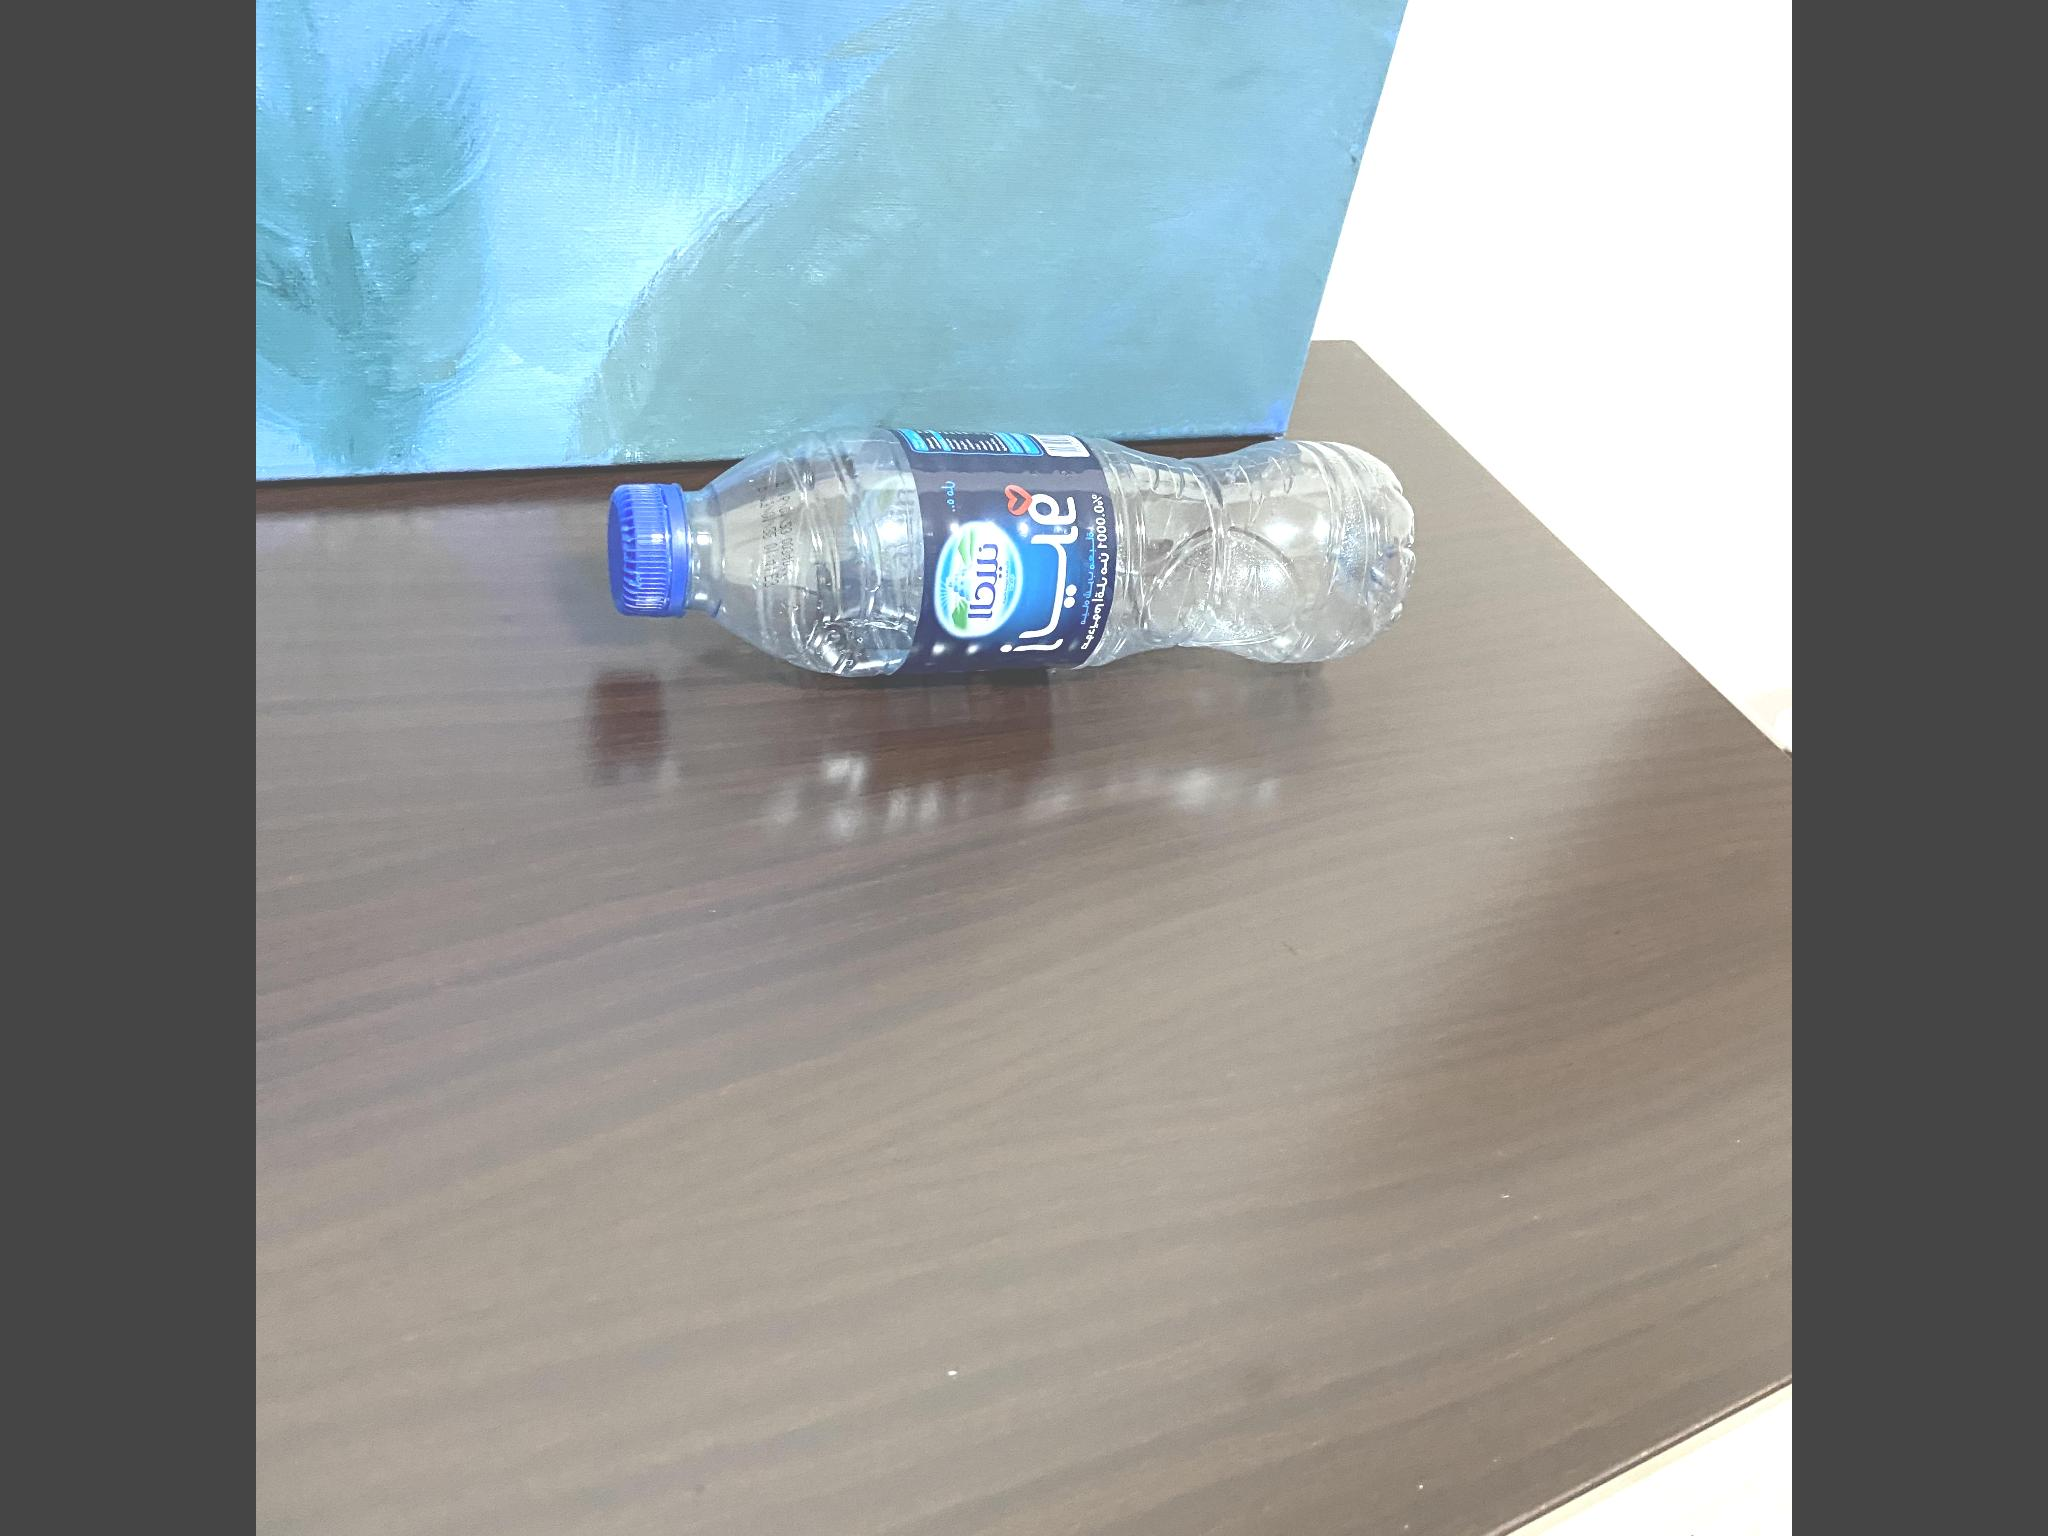bottle: (600, 400, 1426, 690)
